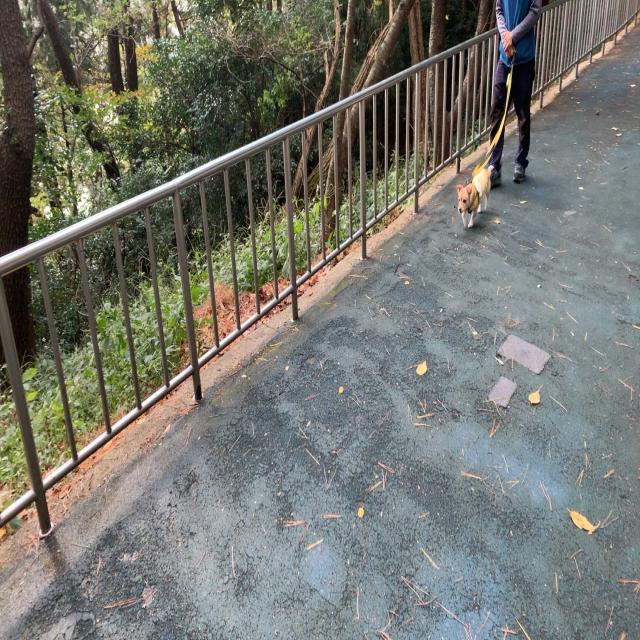Leashed_Dog: (456, 31, 518, 229)
